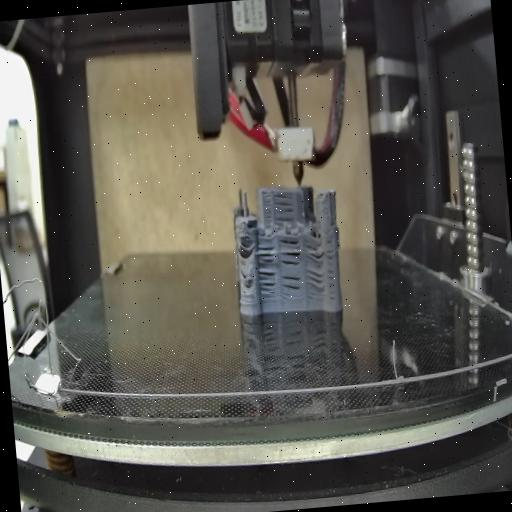cracks: (277, 238, 303, 270), (272, 191, 297, 224), (324, 243, 337, 300), (303, 267, 327, 297), (257, 267, 278, 298), (281, 270, 302, 300), (255, 241, 276, 269), (304, 242, 326, 268), (236, 239, 248, 257), (328, 212, 335, 232), (239, 267, 248, 282)
